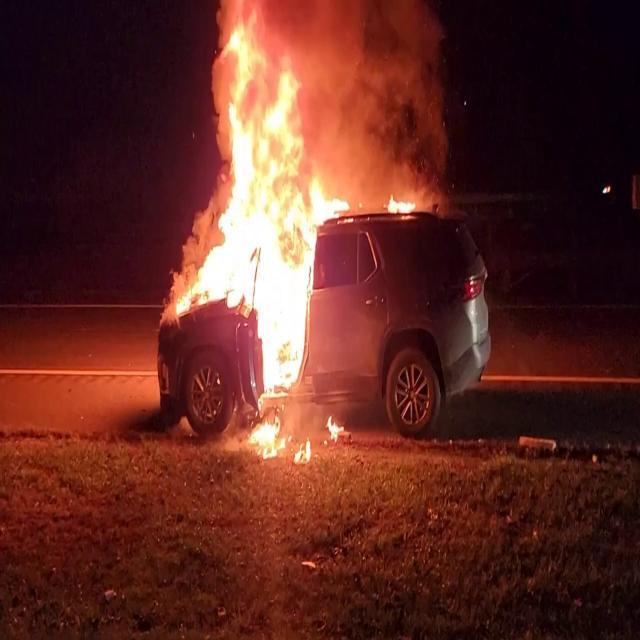Fire: (166, 2, 340, 448), (383, 188, 423, 223)
Smoke: (305, 0, 455, 188)
